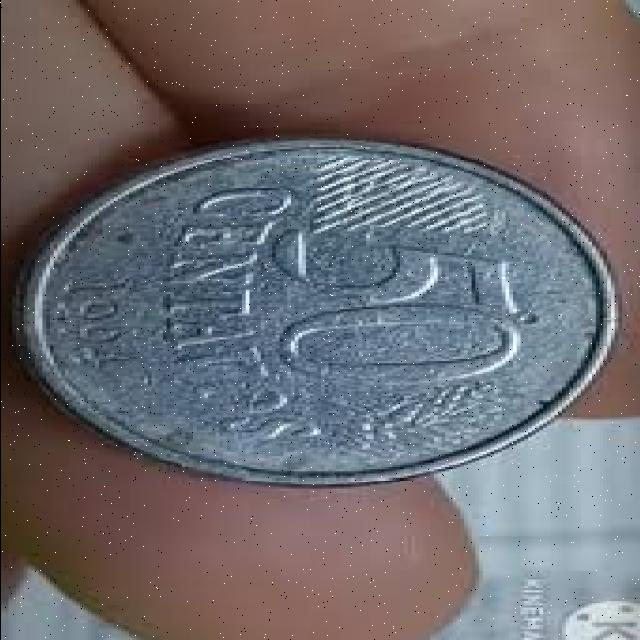50 cent: (33, 136, 600, 478)
